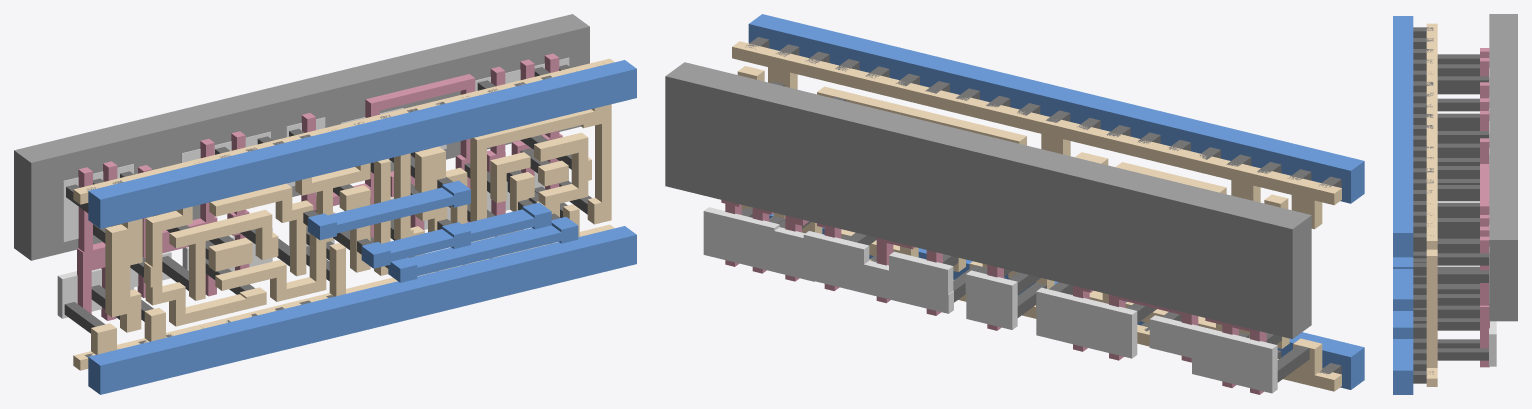
Rendered from sky130_fd_sc_hd__xor3_2.gds.gltf.
The picture shows the model from 3 angles, left to right: view 1: azimuth 30°, elevation 25°; view 2: azimuth 150°, elevation 25°; view 3: azimuth 270°, elevation 25°; orthographic projection. The views are drawn at different scales.
Visible parts, largest first — view 1: sky130_fd_sc_hd__xor3_2_met1, sky130_fd_sc_hd__xor3_2_li1, sky130_fd_sc_hd__xor3_2_nwell, sky130_fd_sc_hd__xor3_2_poly, sky130_fd_sc_hd__xor3_2_licon, sky130_fd_sc_hd__xor3_2_diff, sky130_fd_sc_hd__xor3_2_mcon; view 2: sky130_fd_sc_hd__xor3_2_nwell, sky130_fd_sc_hd__xor3_2_diff, sky130_fd_sc_hd__xor3_2_li1, sky130_fd_sc_hd__xor3_2_met1, sky130_fd_sc_hd__xor3_2_mcon, sky130_fd_sc_hd__xor3_2_poly, sky130_fd_sc_hd__xor3_2_licon; view 3: sky130_fd_sc_hd__xor3_2_licon, sky130_fd_sc_hd__xor3_2_nwell, sky130_fd_sc_hd__xor3_2_met1, sky130_fd_sc_hd__xor3_2_mcon, sky130_fd_sc_hd__xor3_2_li1, sky130_fd_sc_hd__xor3_2_poly, sky130_fd_sc_hd__xor3_2_diff.
Boxes of the visible parts, <box> form: sky130_fd_sc_hd__xor3_2_met1: <box>88,60,636,394</box>; sky130_fd_sc_hd__xor3_2_li1: <box>73,58,614,370</box>; sky130_fd_sc_hd__xor3_2_nwell: <box>14,14,589,260</box>; sky130_fd_sc_hd__xor3_2_poly: <box>77,53,562,320</box>; sky130_fd_sc_hd__xor3_2_licon: <box>64,64,591,333</box>; sky130_fd_sc_hd__xor3_2_diff: <box>57,57,569,318</box>; sky130_fd_sc_hd__xor3_2_mcon: <box>84,71,576,357</box>; sky130_fd_sc_hd__xor3_2_nwell: <box>665,62,1311,338</box>; sky130_fd_sc_hd__xor3_2_diff: <box>703,207,1277,393</box>; sky130_fd_sc_hd__xor3_2_li1: <box>732,41,1341,391</box>; sky130_fd_sc_hd__xor3_2_met1: <box>748,14,1364,389</box>; sky130_fd_sc_hd__xor3_2_mcon: <box>745,37,1341,374</box>; sky130_fd_sc_hd__xor3_2_poly: <box>721,200,1266,394</box>; sky130_fd_sc_hd__xor3_2_licon: <box>741,81,1309,382</box>; sky130_fd_sc_hd__xor3_2_licon: <box>1437,54,1488,360</box>; sky130_fd_sc_hd__xor3_2_nwell: <box>1489,14,1517,321</box>; sky130_fd_sc_hd__xor3_2_met1: <box>1393,16,1413,394</box>; sky130_fd_sc_hd__xor3_2_mcon: <box>1413,27,1433,383</box>; sky130_fd_sc_hd__xor3_2_li1: <box>1426,23,1437,386</box>; sky130_fd_sc_hd__xor3_2_poly: <box>1480,48,1489,367</box>; sky130_fd_sc_hd__xor3_2_diff: <box>1489,68,1496,366</box>.
Bounding box in the file's own units: 9.58 × 3.2 × 2.24.
